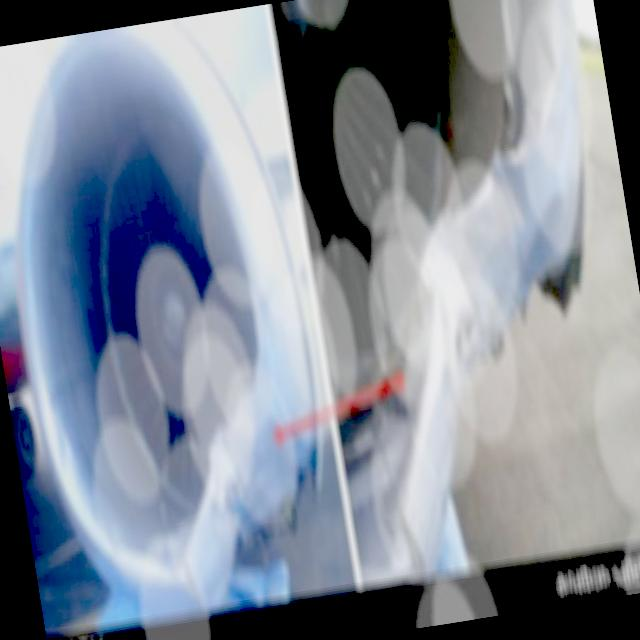dent: (494, 154, 532, 228)
